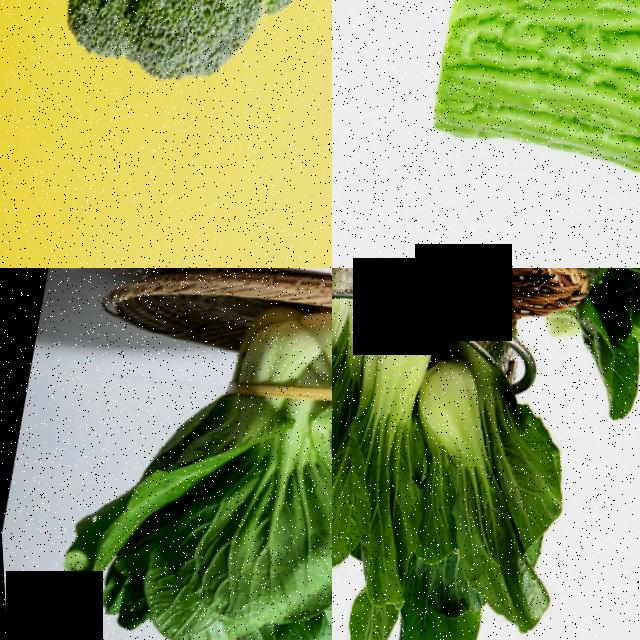bitter gourd: (385, 0, 640, 258)
bok choy: (41, 268, 332, 640), (383, 351, 542, 631), (332, 306, 457, 576), (566, 268, 640, 452)
broccoli: (16, 0, 332, 171)
